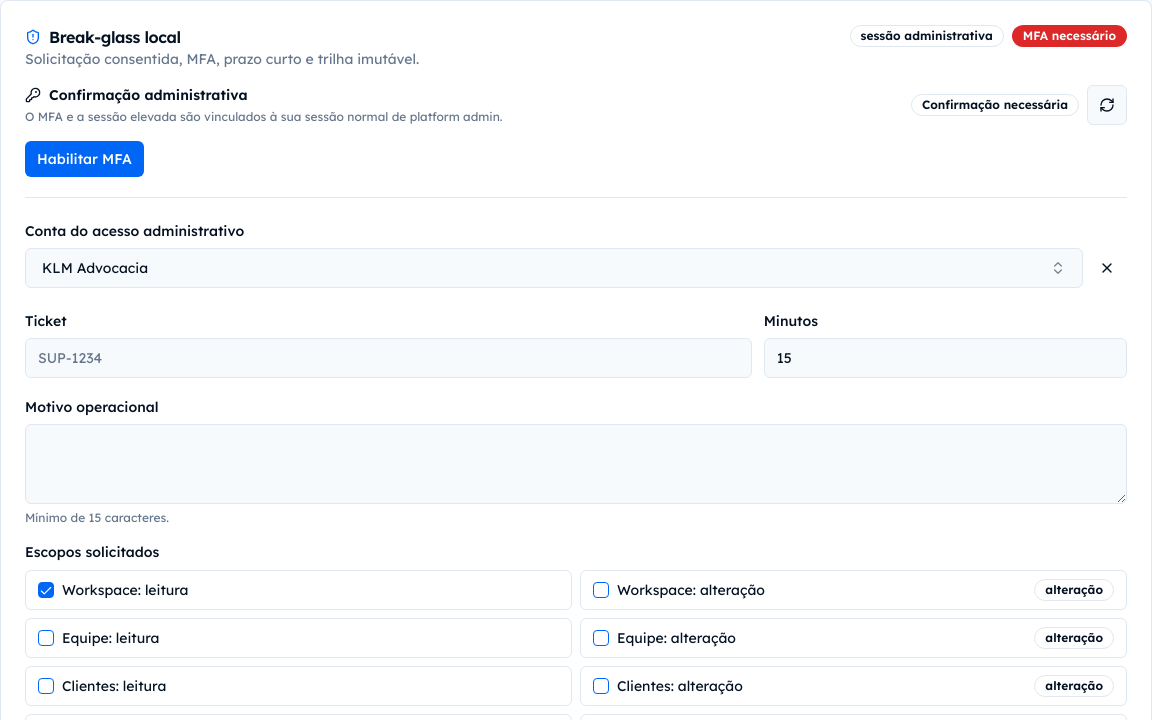
Test: PlatformSupportAccessPanel › enrolls MFA natively before creating a platform step-up session
The width and height of the screenshot is (1152, 720).
Click the button "Habilitar MFA": (84, 159) [25, 141, 144, 177]
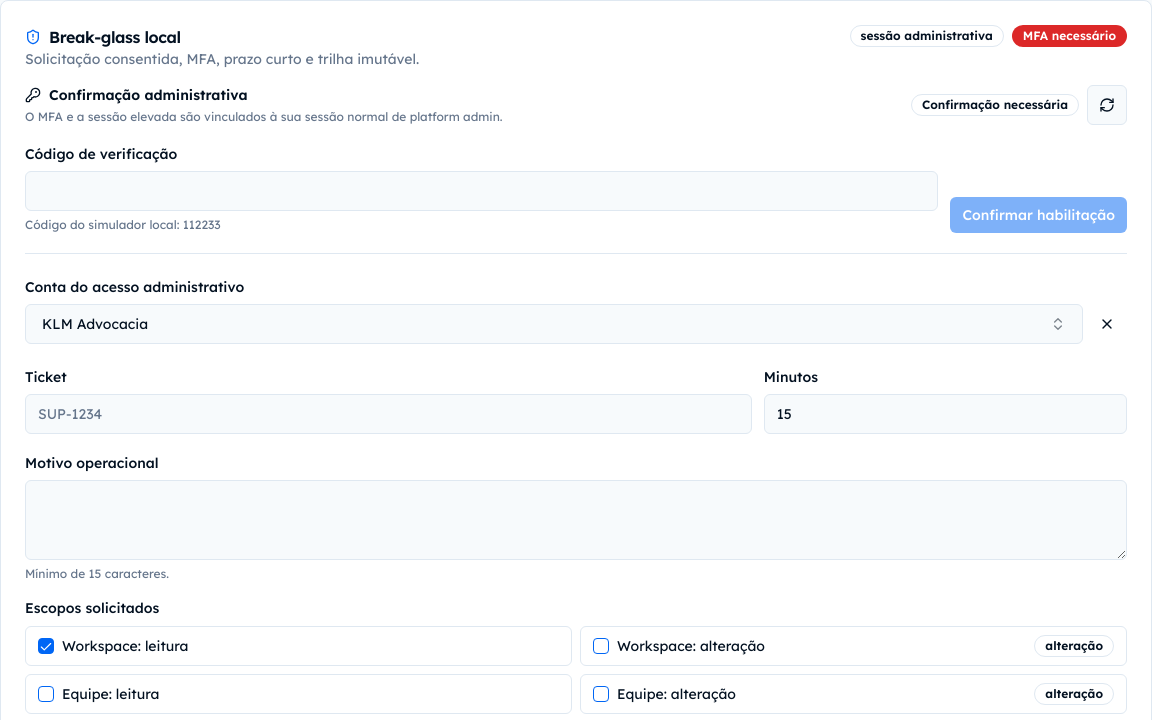
In the field labelled "Código de verificação": (482, 191) [25, 171, 938, 211], type "112233"
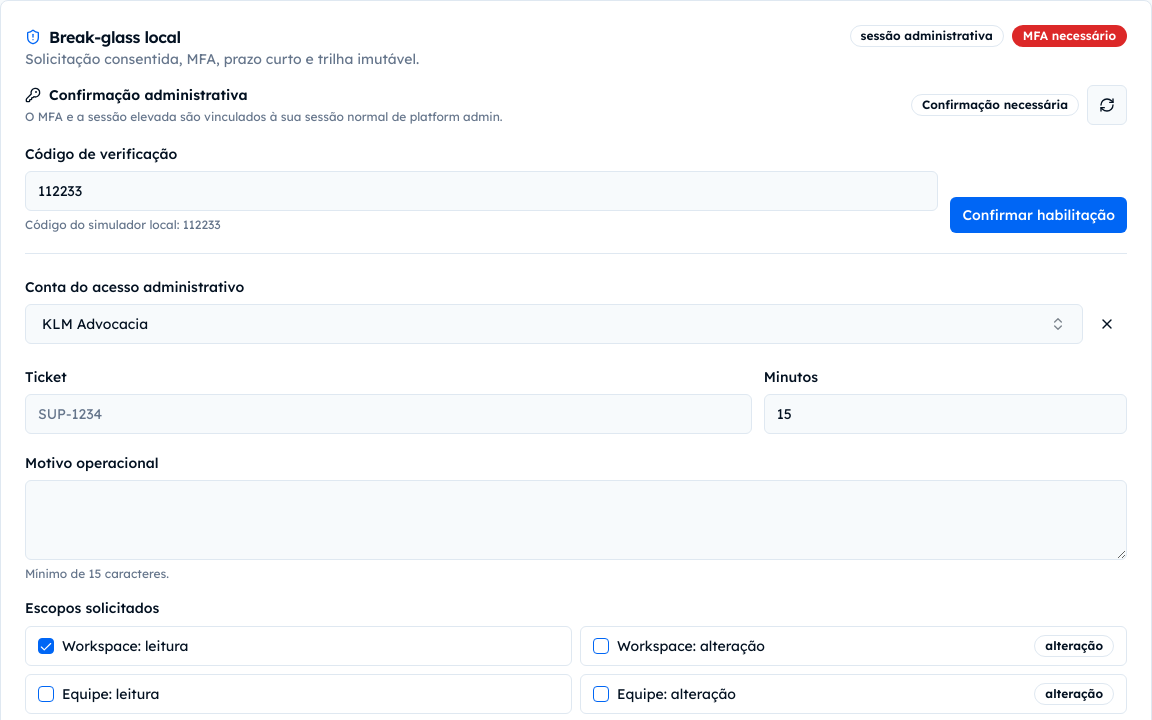
Click the button "Confirmar habilitação": (1039, 215) [950, 197, 1127, 233]
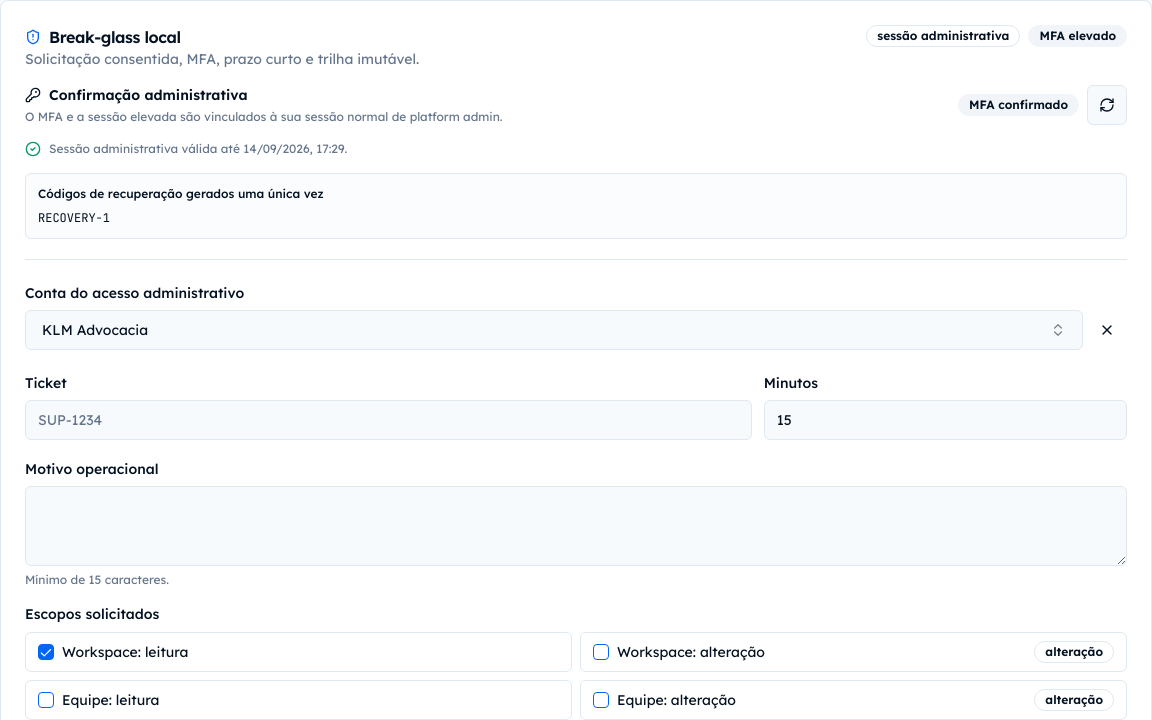
Now the text "Códigos de recuperação gerados uma única vez" is shown, box [38, 186, 324, 201]
